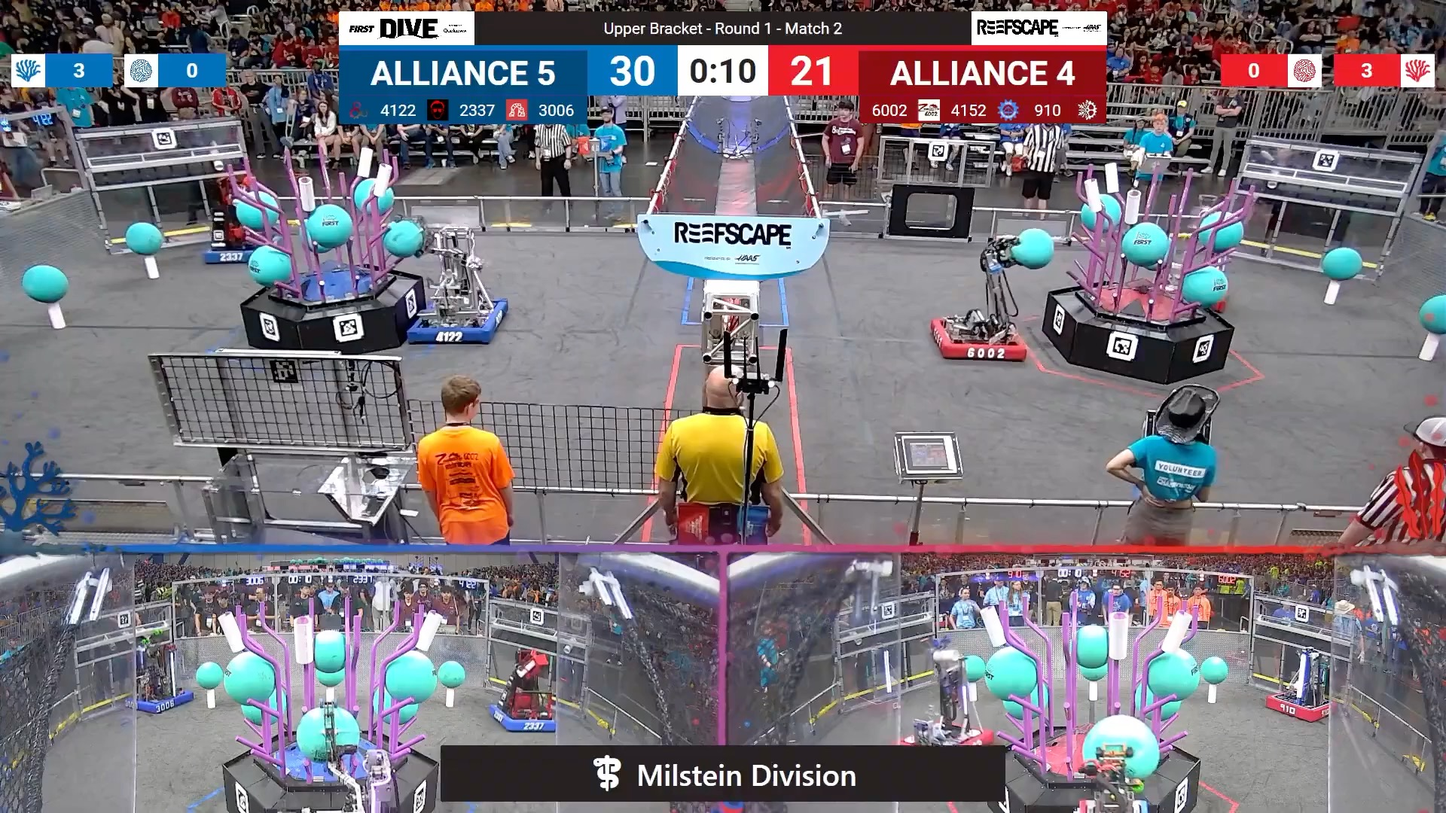bumpers: (398, 291, 511, 351), (926, 314, 1033, 367), (484, 699, 566, 736), (197, 233, 279, 269), (1260, 693, 1344, 724), (125, 685, 198, 717)
